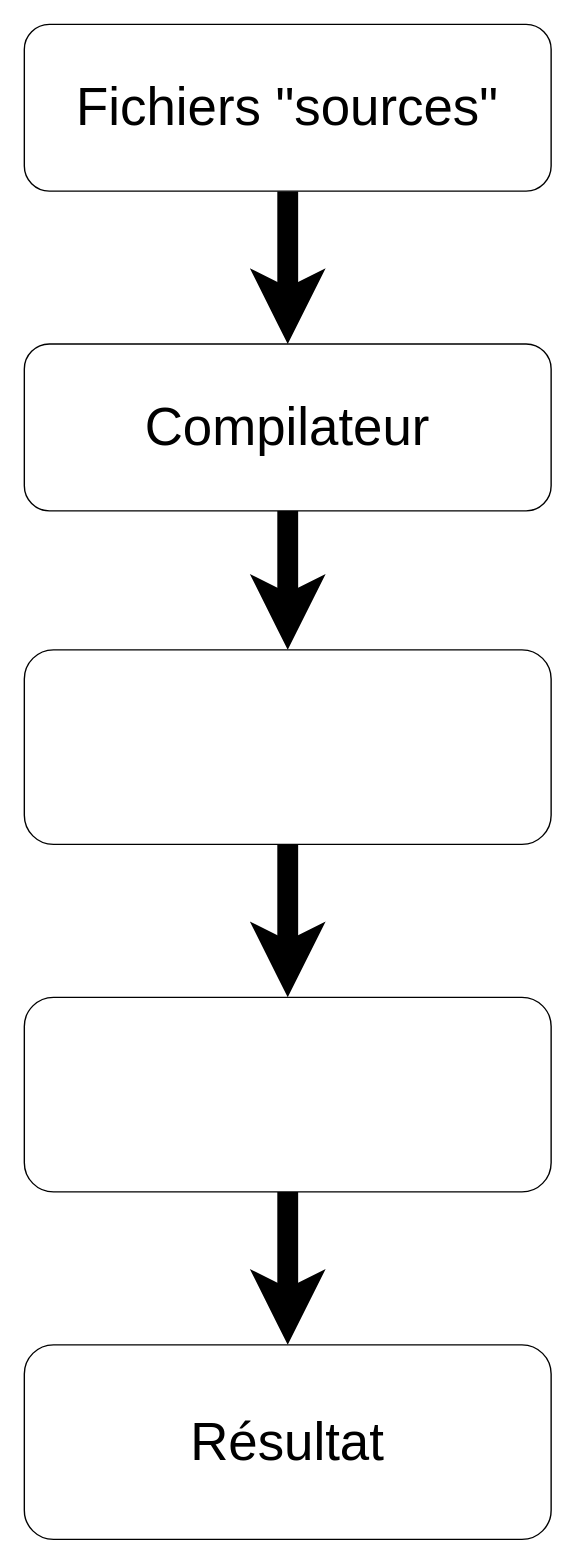
Image size: 575x1564. Some labels were removed from this diagram. Each missing label, with the centre of its shape:
"Execution" belongs at point (287, 1094).
"Fichier executable" belongs at point (287, 746).
